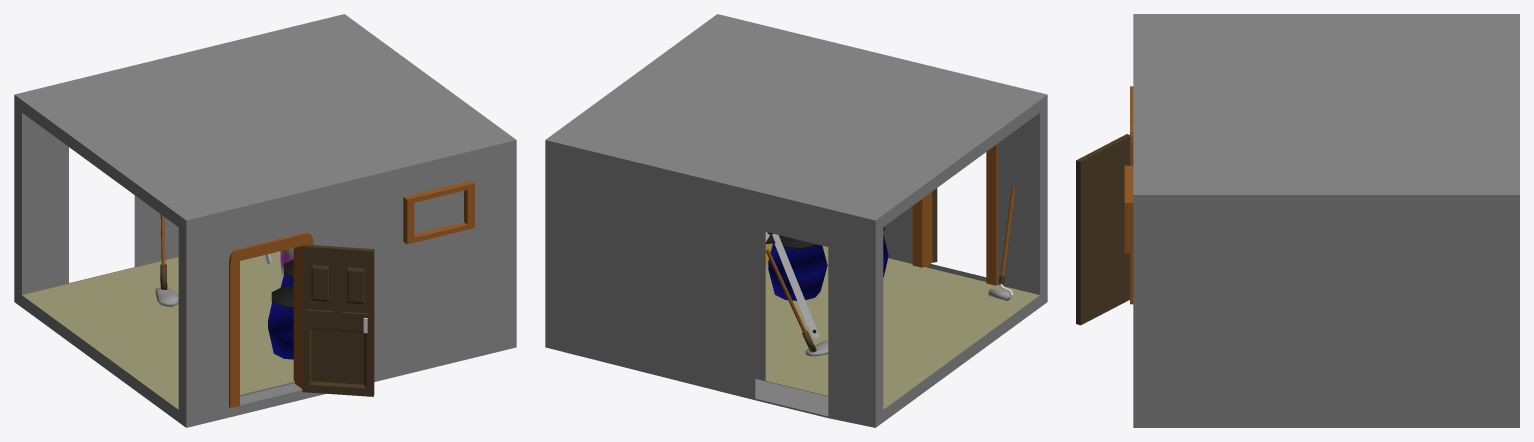
File: Комната6.fbx
3 views of the same model, side by side, from view 1: azimuth 30°, elevation 25°; view 2: azimuth 150°, elevation 25°; view 3: azimuth 270°, elevation 25° (orthographic). The views are drawn at different scales.
Parts seen in each view (by area): view 1: Cube.456; view 2: Cube.456; view 3: Cube.456.
Part boxes in pixels (box(x1,y1,x2,y2)): Cube.456: box(14, 14, 516, 427); Cube.456: box(545, 14, 1047, 427); Cube.456: box(1076, 14, 1519, 427).
Size of the model in its own units: 792 by 479 by 821.
